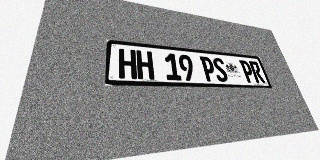1: (163, 53, 182, 81)
9: (178, 54, 196, 81)
H: (119, 48, 137, 79), (136, 50, 154, 80)
P: (199, 56, 217, 82), (239, 60, 256, 83)
R: (248, 61, 266, 83)
S: (211, 57, 229, 82)
